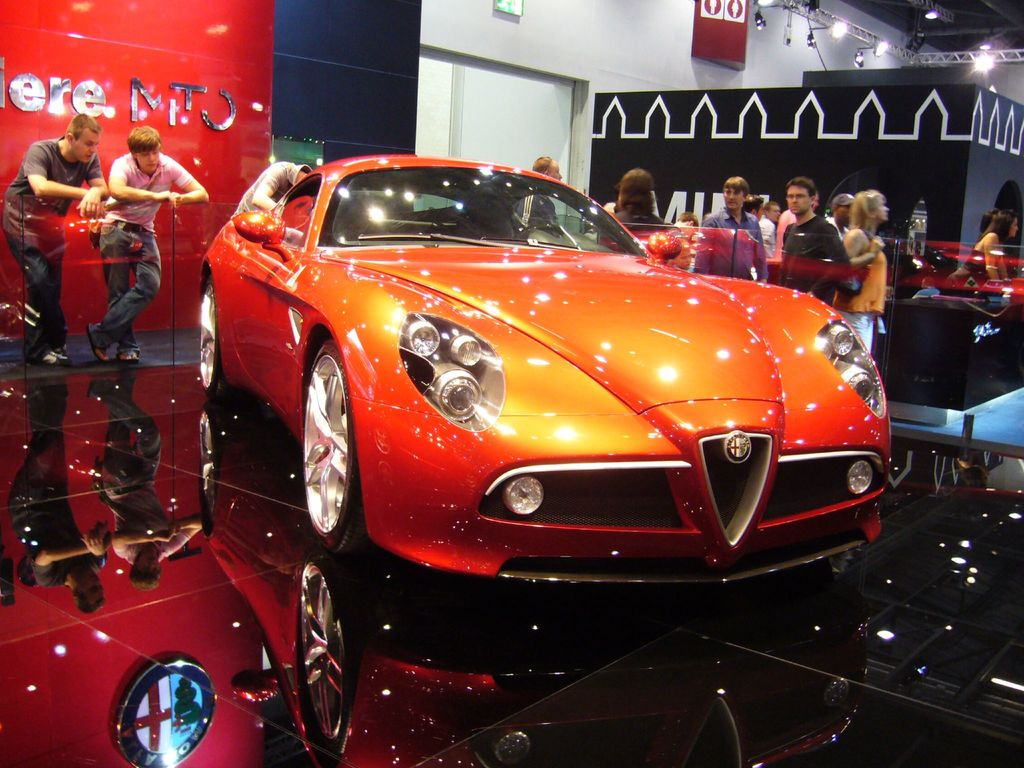Person: (511, 150, 893, 355), (87, 123, 208, 365), (0, 111, 110, 366), (951, 203, 1024, 283), (224, 158, 313, 219)
